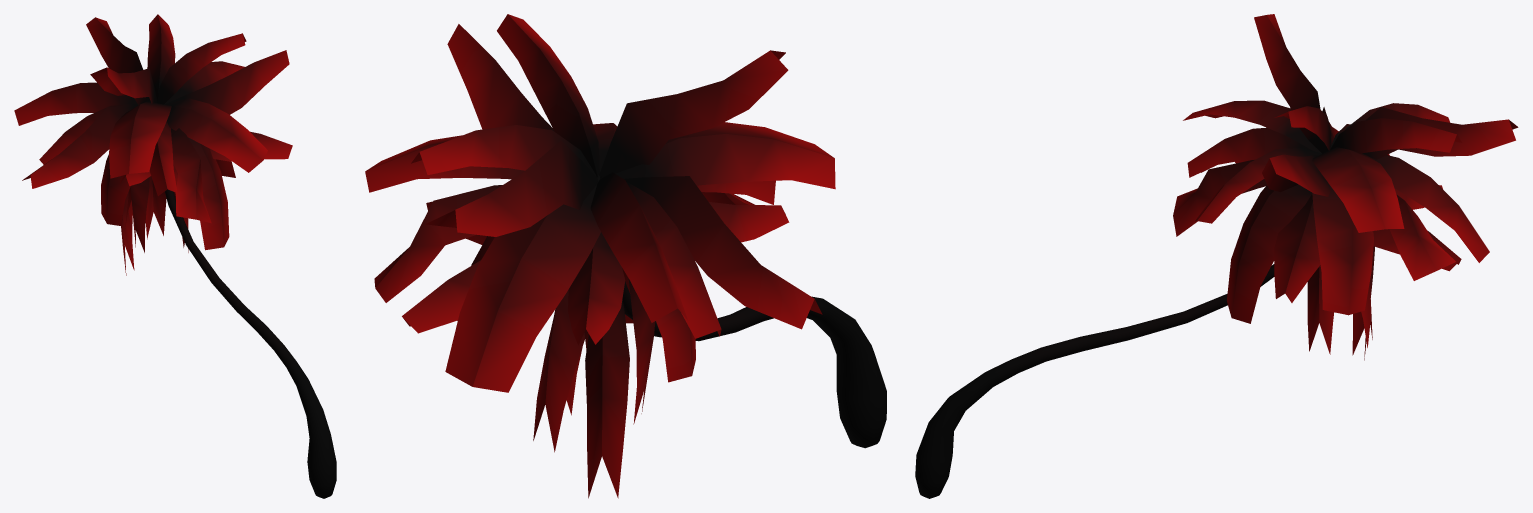
The model's file is TAI_Palm_Tree_04B.fbx.
3 renders of one model, left to right at view 1: azimuth 30°, elevation 25°; view 2: azimuth 150°, elevation 25°; view 3: azimuth 270°, elevation 25°, orthographic. The views are drawn at different scales.
Parts seen in each view (by area): view 1: TAI_Palm_Tree_04B_LOD0; view 2: TAI_Palm_Tree_04B_LOD0; view 3: TAI_Palm_Tree_04B_LOD0.
Boxes of the visible parts, left/top/right/bottom form: TAI_Palm_Tree_04B_LOD0: left=14, top=14, right=336, bottom=498; TAI_Palm_Tree_04B_LOD0: left=365, top=14, right=886, bottom=498; TAI_Palm_Tree_04B_LOD0: left=915, top=14, right=1518, bottom=498.
Size of what is drawn, in the model's own units: 872 by 1191 by 1497.
